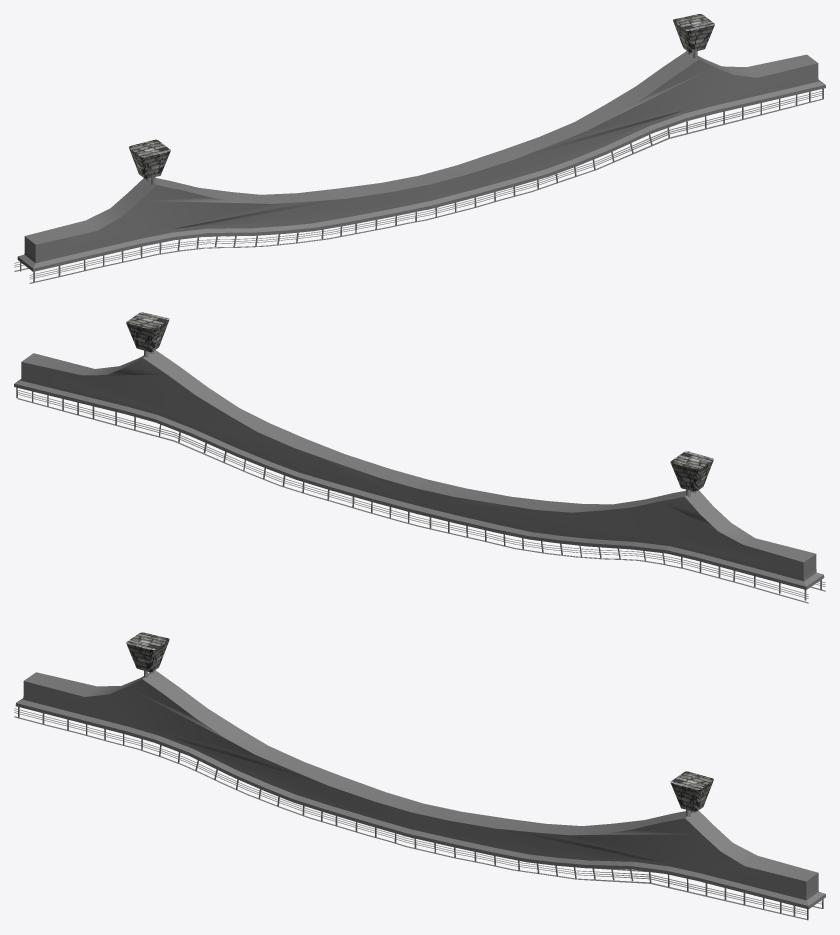
File: Mostuse.FBX
The picture shows the model from 3 angles, top to bottom: view 1: azimuth 30°, elevation 25°; view 2: azimuth 150°, elevation 25°; view 3: azimuth 330°, elevation 25°; orthographic projection. The views are drawn at different scales.
Parts seen in each view (by area): view 1: Rectangle002; view 2: Rectangle002; view 3: Rectangle002.
Part boxes in pixels (box(x1,y1,x2,y2)): Rectangle002: box(14, 14, 825, 283); Rectangle002: box(14, 312, 825, 603); Rectangle002: box(14, 632, 825, 920).
Size of the model in its own units: 1071 by 165 by 64.06.
3 materials, 1 textured.
